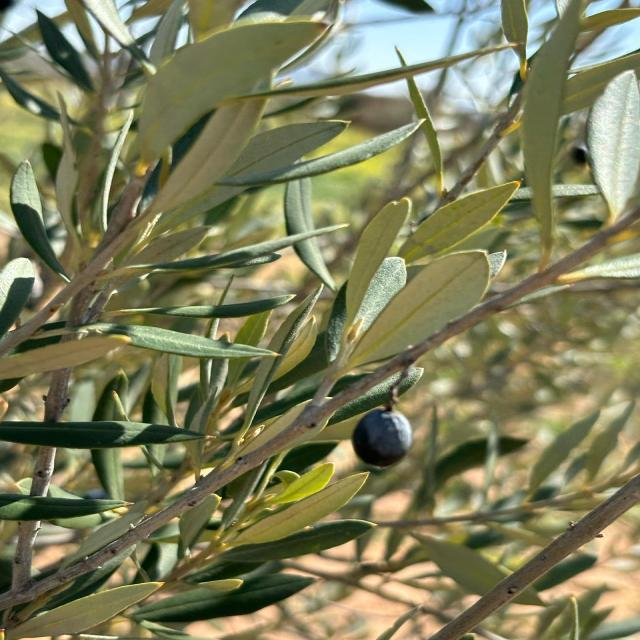Healthy: (344, 250, 492, 372), (221, 121, 424, 188), (321, 198, 411, 330), (228, 472, 369, 546), (398, 181, 521, 264), (206, 520, 374, 577), (9, 582, 163, 640), (587, 70, 639, 224), (10, 160, 70, 284), (76, 323, 277, 358), (0, 334, 131, 378), (0, 422, 205, 448), (351, 398, 412, 471), (119, 294, 295, 318)
